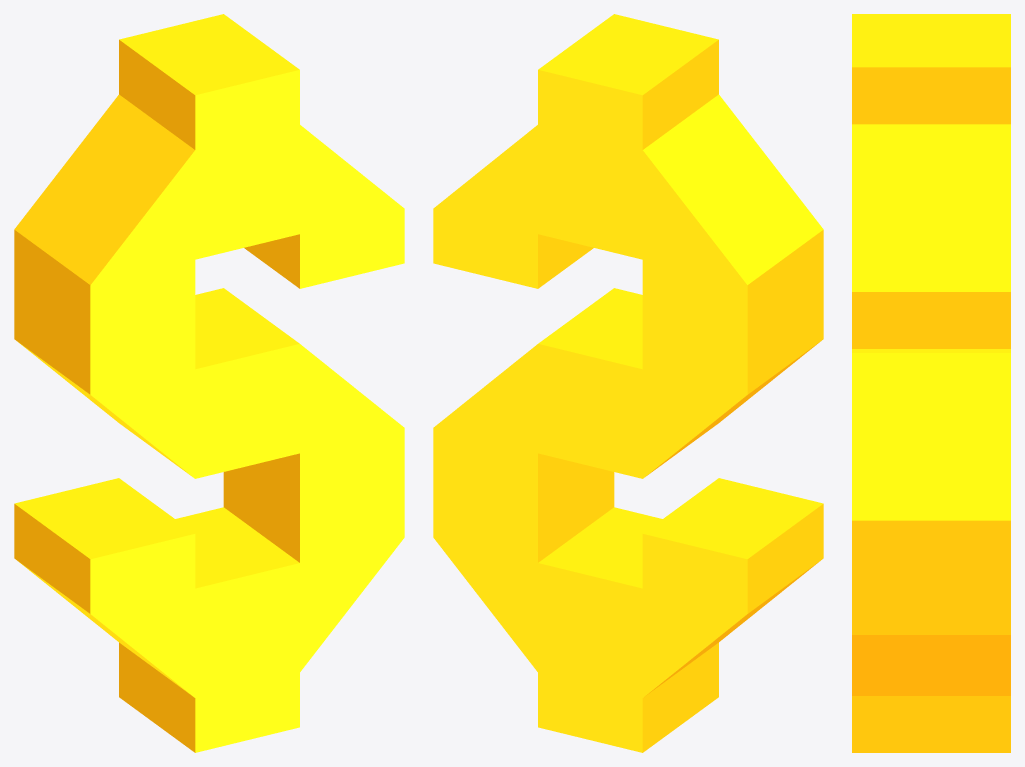
The model's file is symbol$_DeltaBlock_Yellow.glb.
The picture shows the model from 3 angles, left to right: view 1: azimuth 30°, elevation 25°; view 2: azimuth 150°, elevation 25°; view 3: azimuth 270°, elevation 25°; orthographic projection. The views are drawn at different scales.
Parts seen in each view (by area): view 1: $_DeltaBlock_Yellow; view 2: $_DeltaBlock_Yellow; view 3: $_DeltaBlock_Yellow.
Boxes of the visible parts, bbox=[...] form: $_DeltaBlock_Yellow: bbox=[14, 14, 404, 752]; $_DeltaBlock_Yellow: bbox=[433, 14, 823, 752]; $_DeltaBlock_Yellow: bbox=[852, 14, 1010, 752].
Size of what is drawn, in the model's own units: 0.1071 by 0.2143 by 0.045.
Materials: 2 (2 with a texture image).
